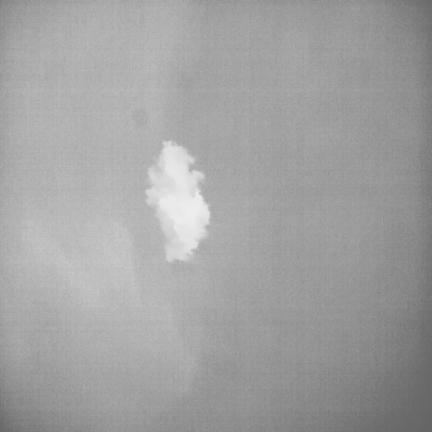flukeprints: (146, 141, 210, 261)
